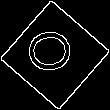O_E: (28, 32, 82, 78)
